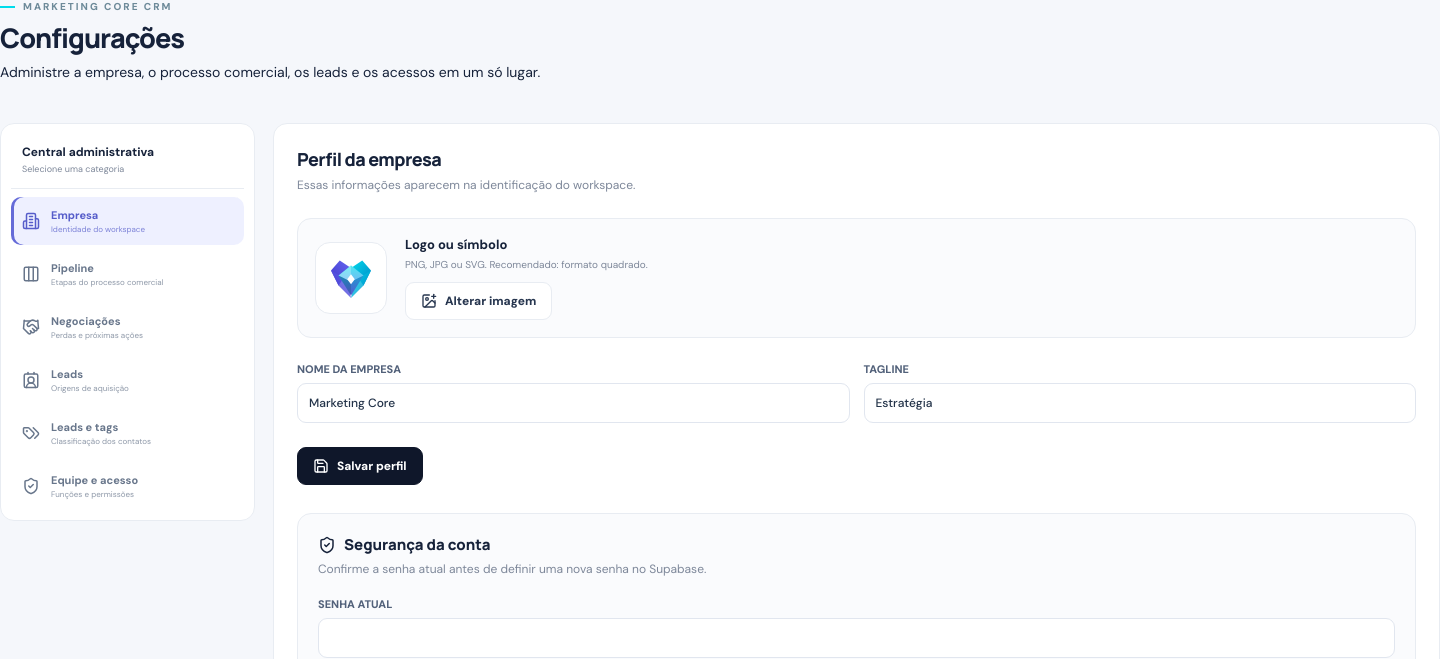
Scenario: Settings autenticada e autorização › mantém apenas recursos sem contrato remoto desabilitados e libera as configurações persistidas
Expected: the file field labelled "Alterar imagem" is disabled, [405,282,552,320]
Expected: the field labelled "TAGLINE" is disabled, [864,383,1416,423]
Click the button "Negociações Perdas e próximas ações" at (128, 327), box [11,303,244,351]
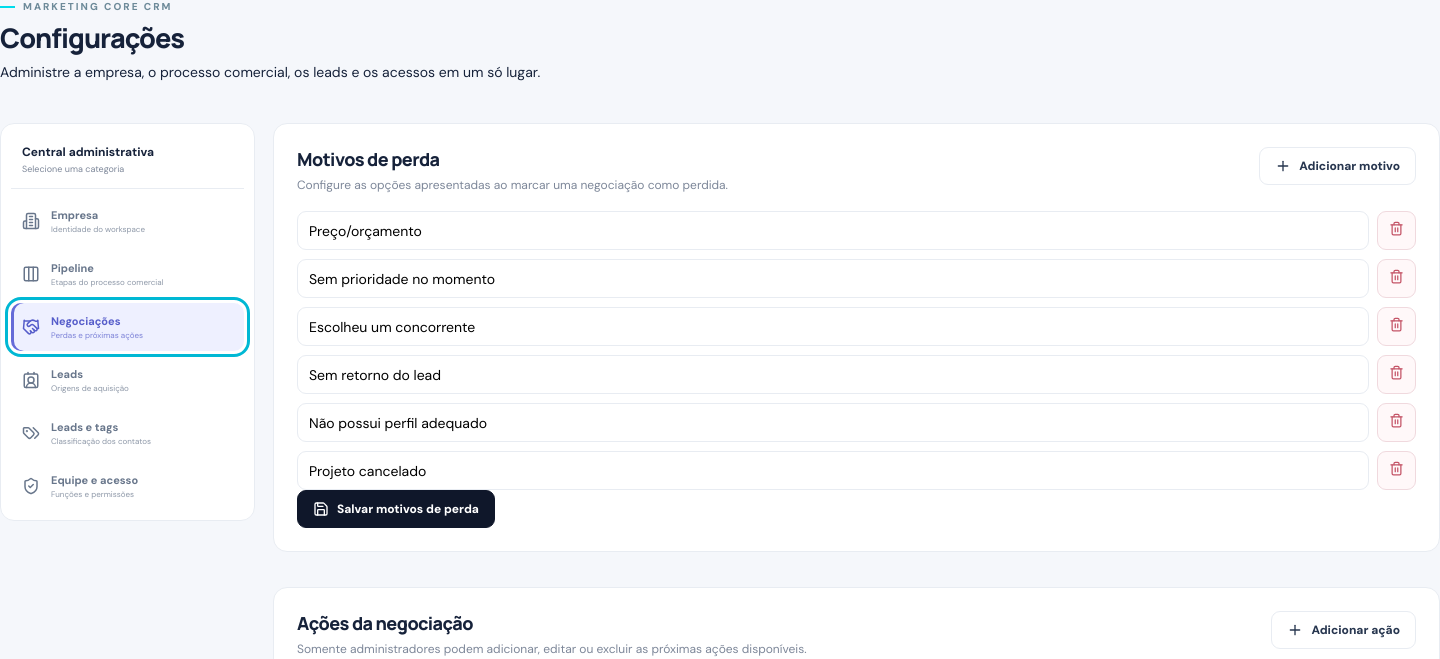
Expected: the heading "Motivos de perda" is shown, [297,147,440,171]
Click the button "Equipe e acesso Funções e permissões" at (128, 486), box [11,462,244,510]
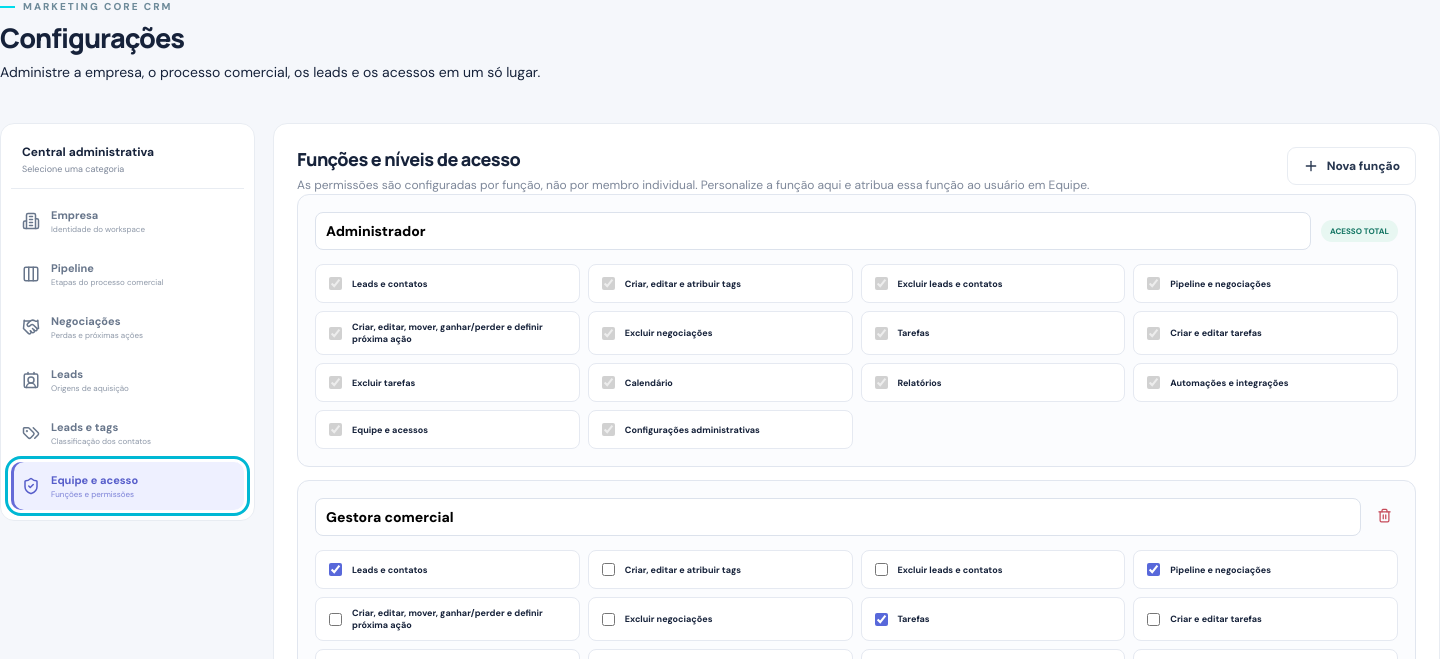
Expected: the heading "Funções e níveis de acesso" is shown, [297,147,520,171]
Expected: the button "Nova função" is enabled
Click the button "Nova função" at (1351, 166), box [1287,147,1416,185]
(page scrolled)
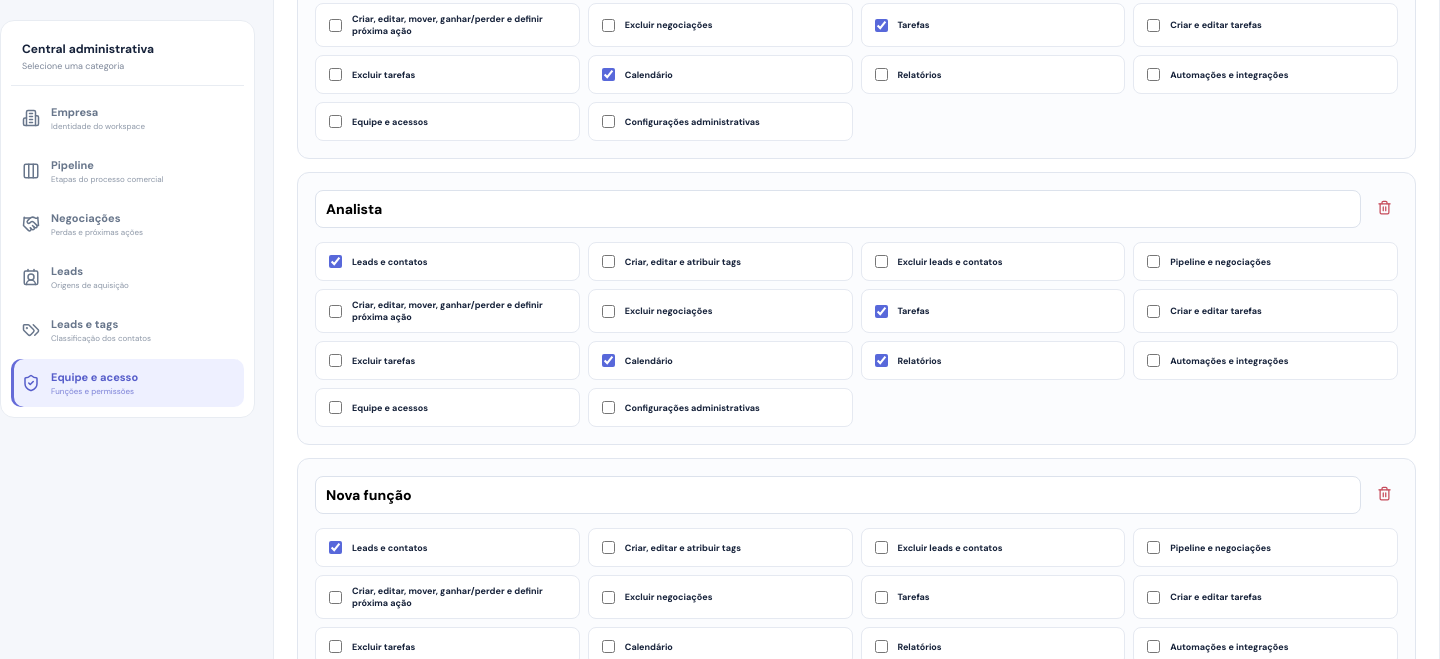
Expected: the field named "Nome da função Nova função" is enabled, [315,476,1361,514]
